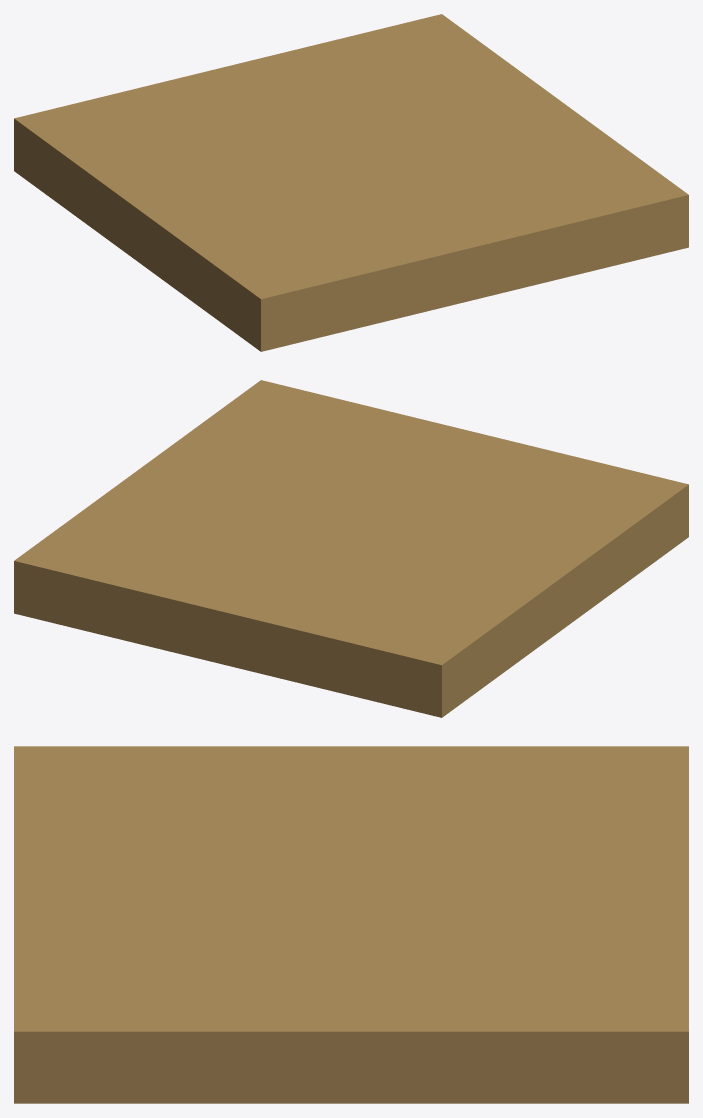
The model's file is Ground.fbx.
3 views of the same model, one above another, from view 1: azimuth 30°, elevation 25°; view 2: azimuth 150°, elevation 25°; view 3: azimuth 270°, elevation 25° (orthographic). The views are drawn at different scales.
Visible parts, largest first — view 1: Cube.042; view 2: Cube.042; view 3: Cube.042.
Part boxes in pixels (x1,y1,x2,y2): Cube.042: [14, 14, 688, 351]; Cube.042: [14, 380, 688, 717]; Cube.042: [14, 746, 688, 1103].
Size of the model in its own units: 60 by 7.06 by 60.
